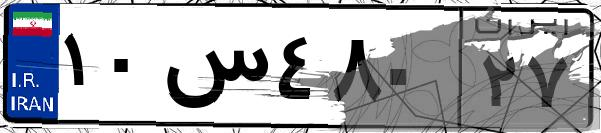0: (385, 28, 445, 110), (110, 28, 158, 98)
1: (57, 26, 110, 100)
2: (475, 38, 525, 113)
4: (270, 28, 330, 110)
7: (525, 38, 570, 115)
8: (330, 28, 385, 110)
س: (158, 20, 270, 120)
